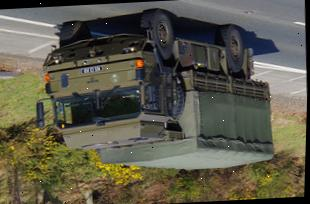truck: (37, 2, 280, 178)
